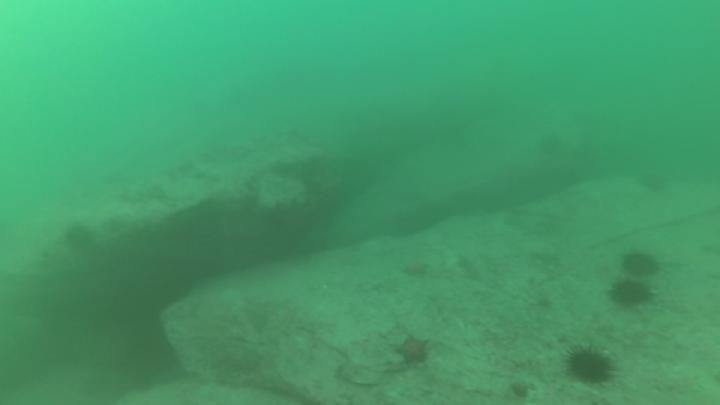echinus: (563, 342, 619, 386), (607, 277, 658, 311), (620, 250, 662, 282), (63, 221, 98, 256), (539, 133, 566, 160)
starfish: (392, 333, 435, 370), (400, 257, 432, 280)
